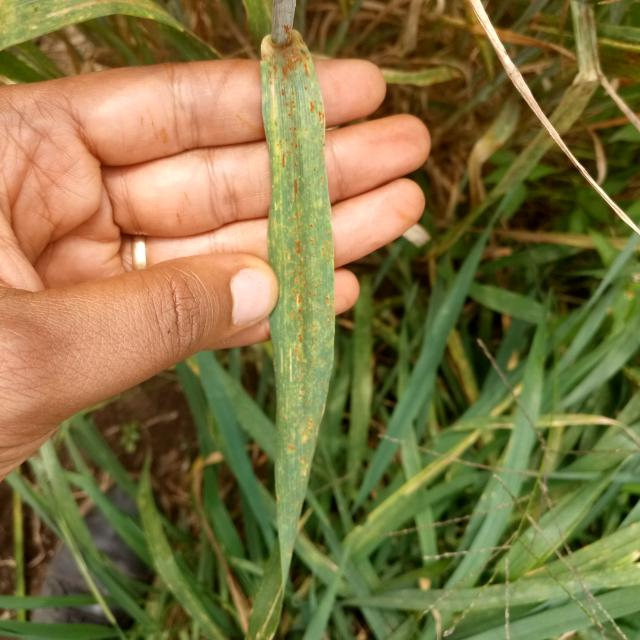leaf rust: (265, 63, 332, 263), (276, 312, 332, 518)
